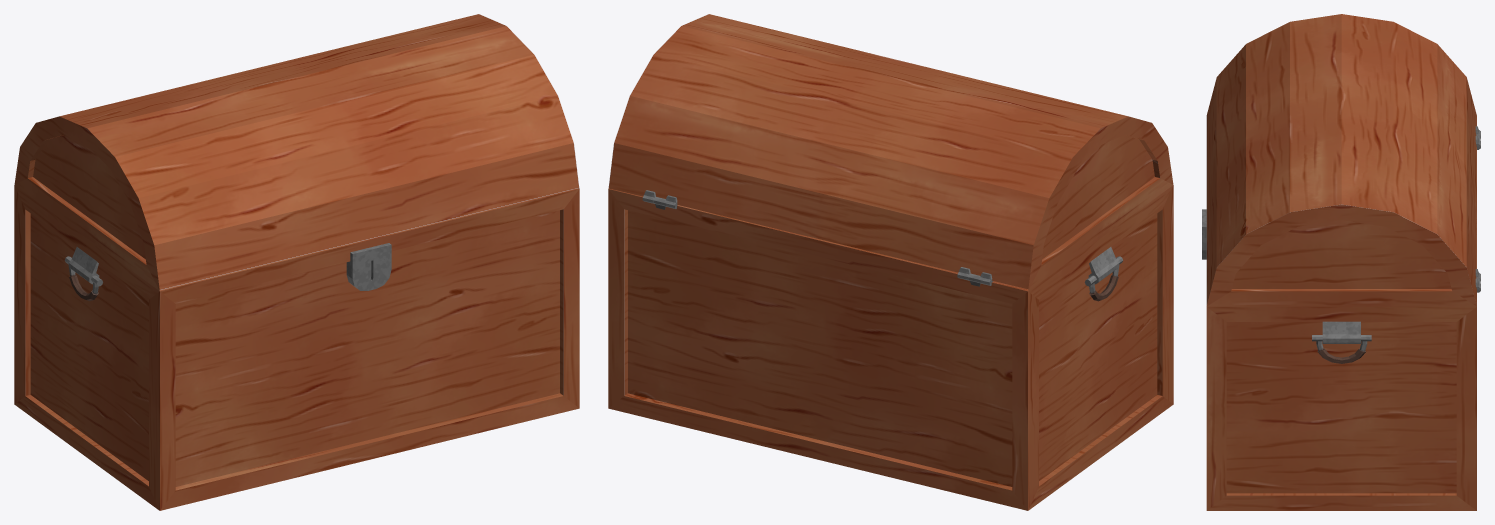
The model's file is Chest.fbx.
3 views of the same model, side by side, from view 1: azimuth 30°, elevation 25°; view 2: azimuth 150°, elevation 25°; view 3: azimuth 270°, elevation 25° (orthographic). The views are drawn at different scales.
Visible parts, largest first — view 1: Chest Bottom, Chest Top; view 2: Chest Bottom, Chest Top; view 3: Chest Top, Chest Bottom.
Boxes of the visible parts, box(x1,y1,x2,y2) form: Chest Bottom: box(14, 185, 579, 510); Chest Top: box(14, 14, 579, 291); Chest Bottom: box(608, 185, 1173, 510); Chest Top: box(608, 14, 1173, 290); Chest Top: box(1206, 14, 1480, 306); Chest Bottom: box(1202, 116, 1480, 510).
Size of the model in its own units: 4.16 by 3 by 2.47.
